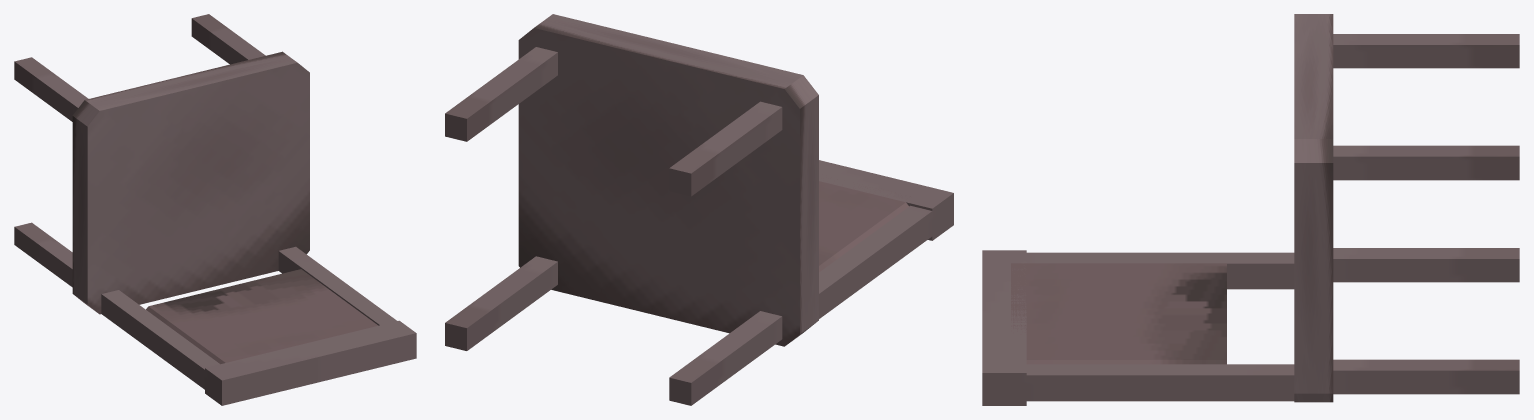
The model's file is pz_chair_seating_indoor_03_grey_plastic.obj.
3 views of the same model, side by side, from view 1: azimuth 30°, elevation 25°; view 2: azimuth 150°, elevation 25°; view 3: azimuth 270°, elevation 25° (orthographic). The views are drawn at different scales.
Bounding box in the file's own units: 0.64 × 0.575 × 1.03.
Materials: 1 (1 with a texture image).
